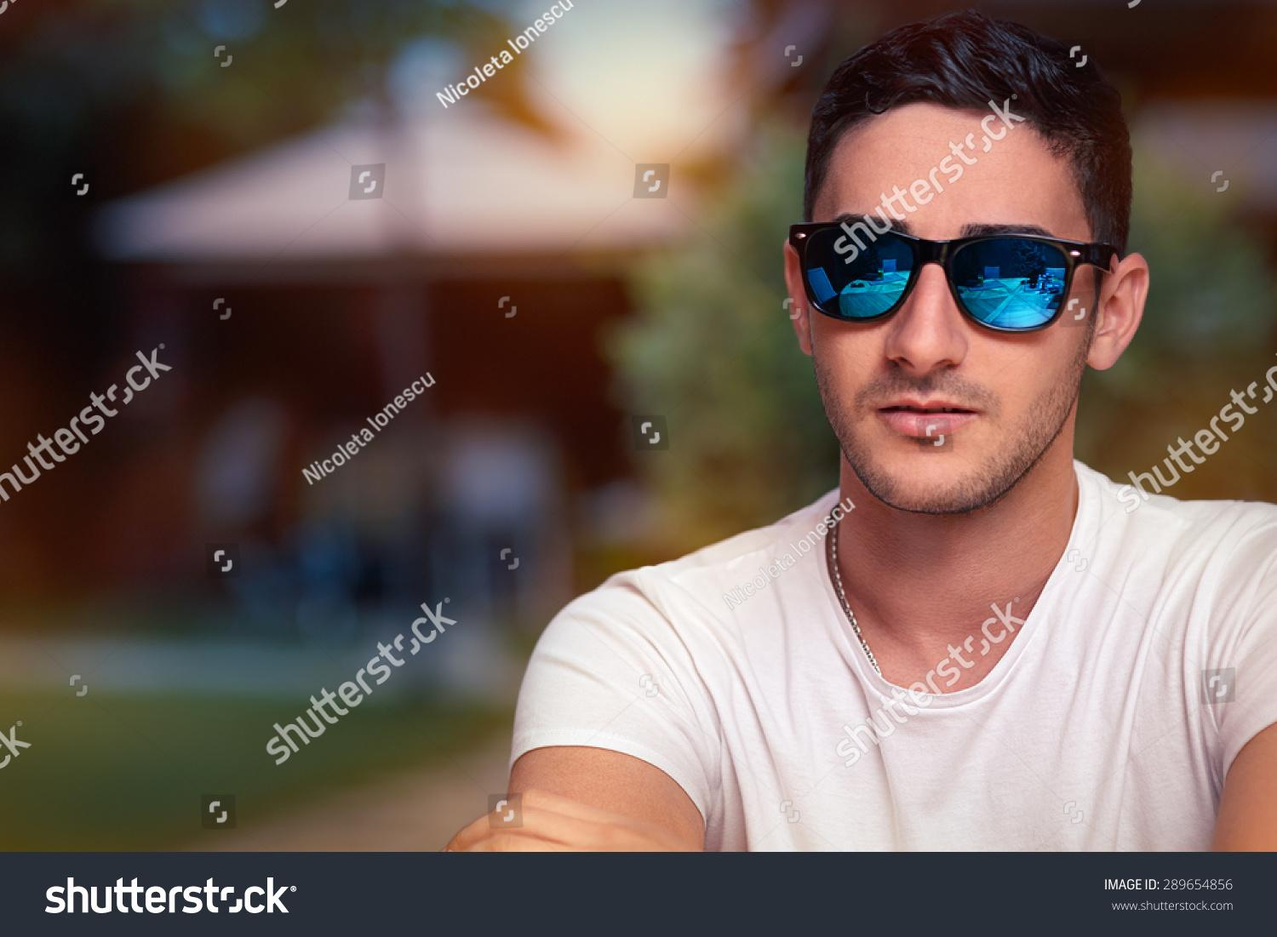sunglasses: (781, 196, 1107, 343)
